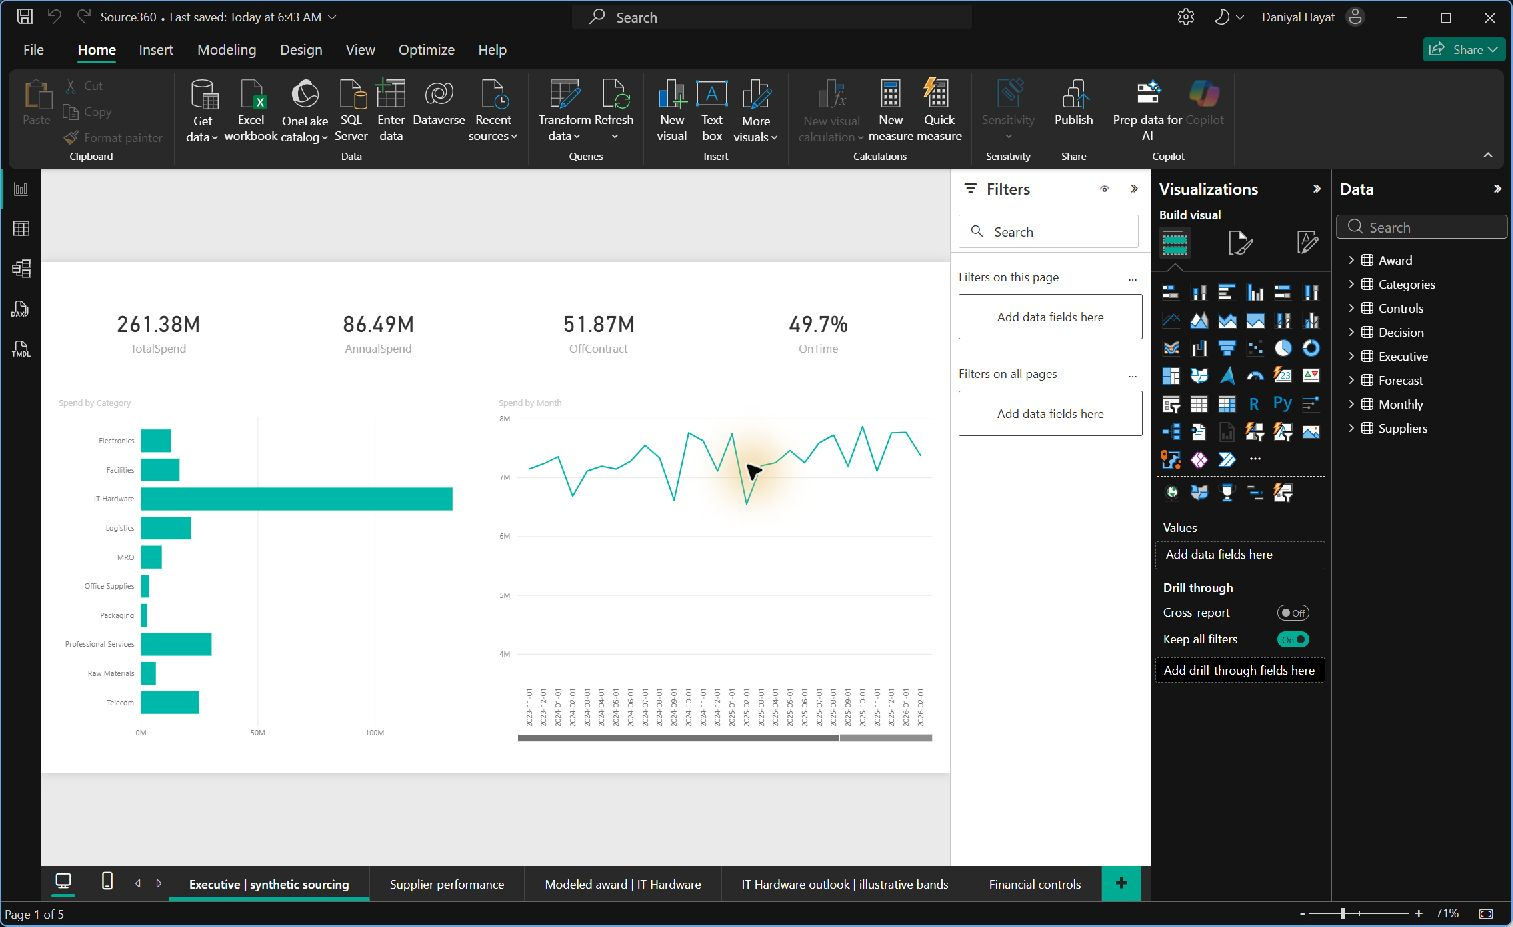

This screenshot's page, from the dashboard's own definition file:
{"tool":"powerbi","page":{"name":"Executive | synthetic sourcing","canvas":[1280,720],"ordinal":0},"visuals":[{"type":"card","fields":{"Values":["Sum(Executive.TotalSpend)"]},"box":[20,20,290,150],"z":0},{"type":"card","fields":{"Values":["Sum(Executive.AnnualSpend)"]},"box":[330,20,290,150],"z":0},{"type":"card","fields":{"Values":["Sum(Executive.OffContract)"]},"box":[640,20,290,150],"z":0},{"type":"card","fields":{"Values":["Sum(Executive.OnTime)"]},"box":[950,20,290,150],"z":0},{"type":"clusteredBarChart","fields":{"Category":["Categories.Category"],"Y":["Sum(Categories.Spend)"]},"box":[20,190,600,490],"z":0},{"type":"lineChart","fields":{"Category":["Monthly.Month"],"Y":["Sum(Monthly.Spend)"]},"box":[640,190,620,490],"z":0}]}

Visuals, with their boxes on the page's 1280x720 design canvas (x1, y1, x2, y2). These are canvas units, not pixel positions in the 1513x927 screenshot, which may show the page scaled, cropped or inside an application window:
card - Sum(Executive.TotalSpend): box=[20, 20, 310, 170]
card - Sum(Executive.AnnualSpend): box=[330, 20, 620, 170]
card - Sum(Executive.OffContract): box=[640, 20, 930, 170]
card - Sum(Executive.OnTime): box=[950, 20, 1240, 170]
clusteredBarChart - Categories.Category x Sum(Categories.Spend): box=[20, 190, 620, 680]
lineChart - Monthly.Month x Sum(Monthly.Spend): box=[640, 190, 1260, 680]
